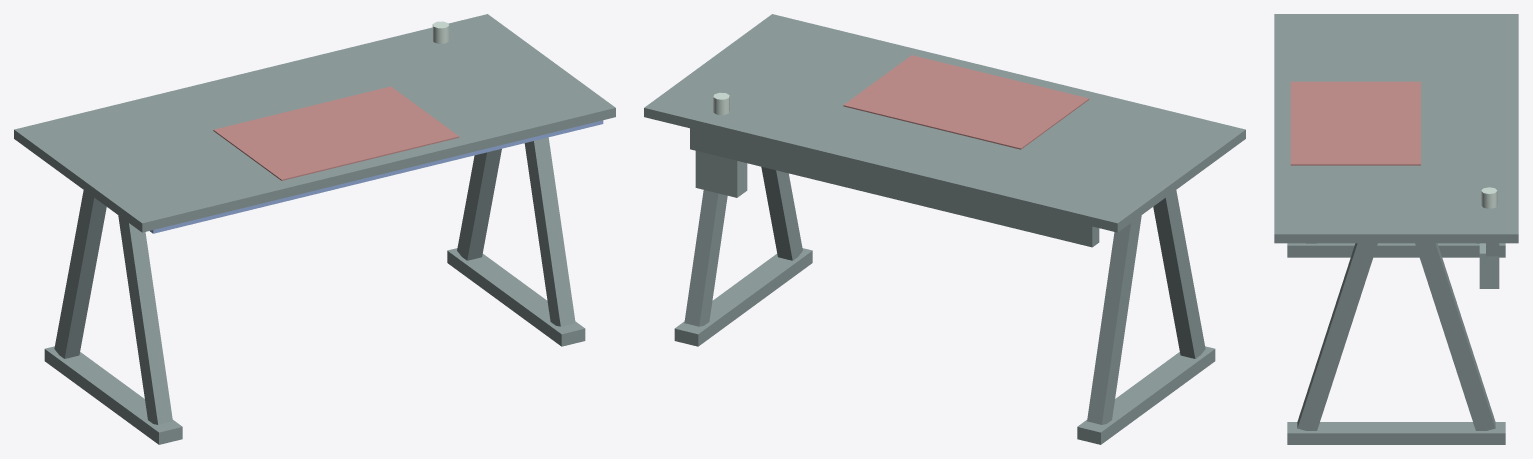
Rendered from deskGaming.glb.
3 renders of one model, left to right at view 1: azimuth 30°, elevation 25°; view 2: azimuth 150°, elevation 25°; view 3: azimuth 270°, elevation 25°, orthographic. The views are drawn at different scales.
Visible parts, largest first — view 1: deskGaming; view 2: deskGaming; view 3: deskGaming.
Part boxes in pixels (bbox=[...]): deskGaming: bbox=[14, 14, 615, 444]; deskGaming: bbox=[644, 14, 1245, 444]; deskGaming: bbox=[1274, 14, 1518, 444].
Bounding box in the file's own units: 0.8 × 0.4 × 0.375.
